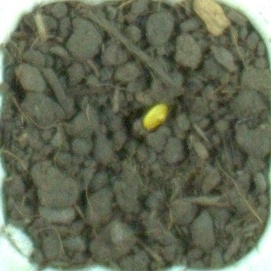chilli seed: (139, 100, 171, 134)
